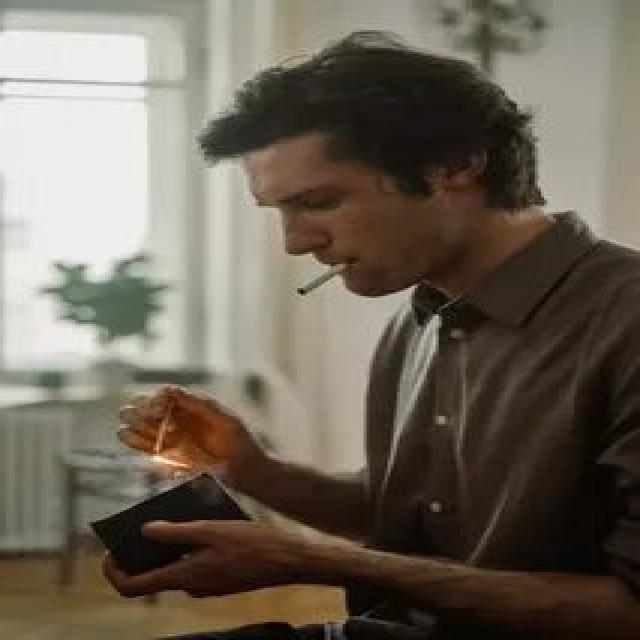cigarette: (294, 256, 354, 298)
